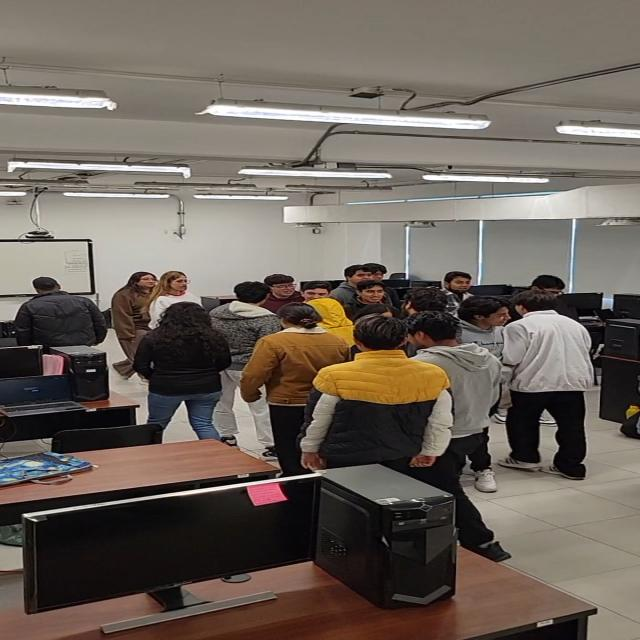Persona: (299, 314, 451, 472), (239, 302, 351, 474), (499, 290, 593, 484), (402, 310, 505, 464), (136, 301, 235, 444), (213, 282, 293, 458), (10, 276, 110, 348), (113, 273, 158, 381), (454, 296, 516, 355), (144, 267, 204, 325), (396, 285, 455, 315), (332, 264, 387, 294), (352, 279, 395, 310), (260, 273, 304, 302), (299, 280, 342, 305), (534, 277, 578, 295), (441, 270, 474, 291)
